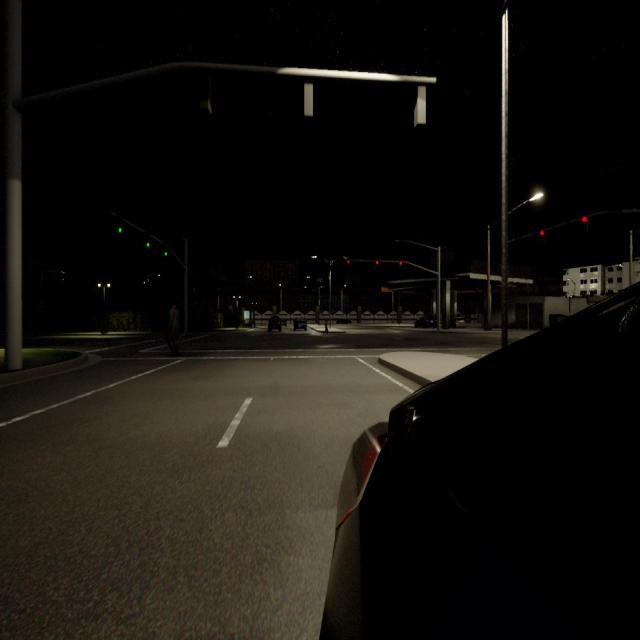Pedestrian: (168, 304, 178, 349), (325, 319, 328, 334)
Vehicle: (324, 288, 640, 638), (414, 316, 435, 328), (268, 317, 281, 332), (294, 317, 306, 331), (454, 316, 465, 328), (242, 320, 255, 328), (336, 318, 351, 324)
traffic_light: (199, 70, 211, 112), (414, 84, 425, 124), (304, 77, 314, 116), (118, 220, 122, 232), (581, 216, 588, 222), (146, 237, 150, 247), (540, 230, 544, 237), (375, 260, 379, 266), (165, 248, 168, 256), (400, 260, 402, 266), (348, 260, 350, 265)
